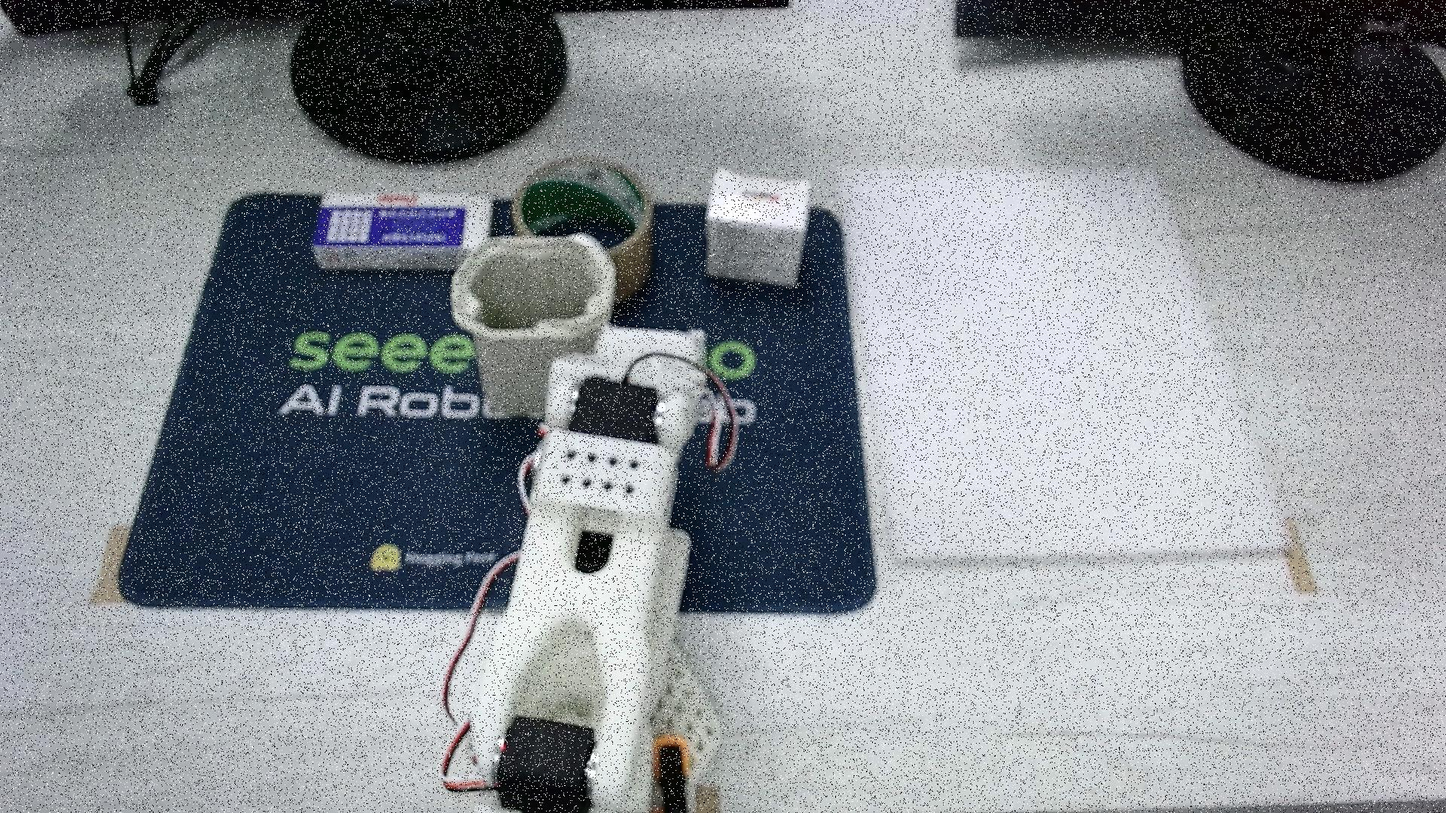eraser: (706, 168, 810, 286)
